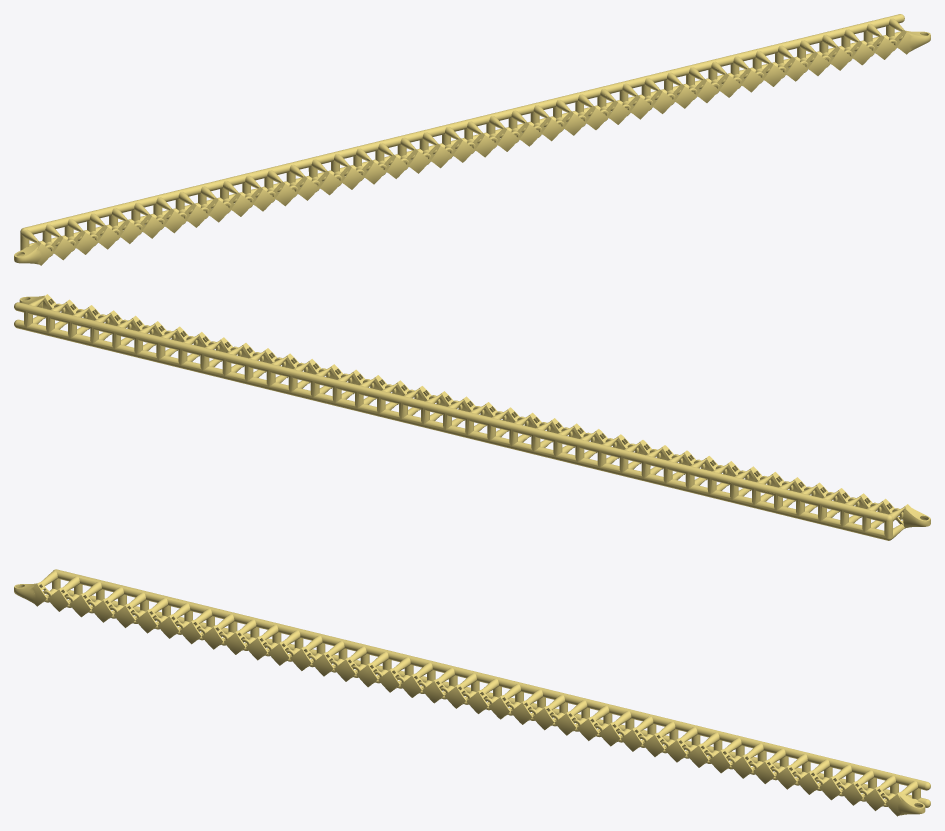
The model's file is yzn5-91_6.glb.
3 views of the same model, one above another, from view 1: azimuth 30°, elevation 25°; view 2: azimuth 150°, elevation 25°; view 3: azimuth 330°, elevation 25° (orthographic).
Parts seen in each view (by area): view 1: Renderer Node; view 2: Renderer Node; view 3: Renderer Node.
Part boxes in pixels (x1,y1,x2,y2): Renderer Node: [14, 14, 930, 265]; Renderer Node: [14, 294, 930, 540]; Renderer Node: [14, 569, 930, 816].
Size of the model in its own units: 178 by 4.74 by 7.41.
